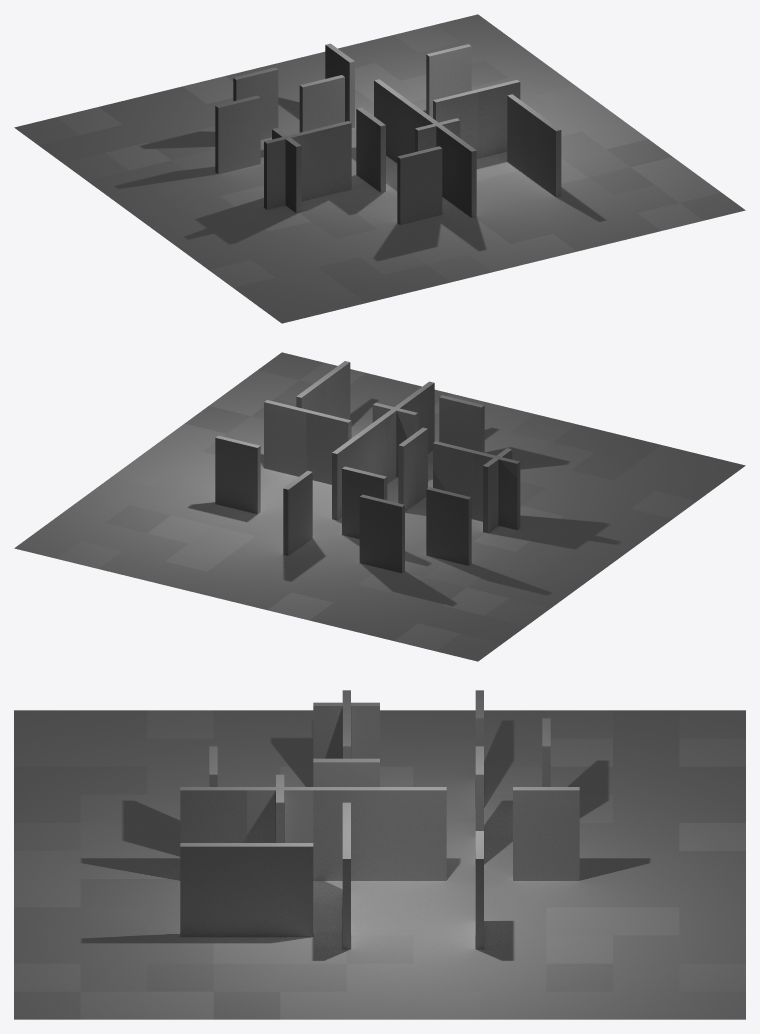
The model's file is 2020-05-06-architecture-study-1.glb.
3 views of the same model, one above another, from view 1: azimuth 30°, elevation 25°; view 2: azimuth 150°, elevation 25°; view 3: azimuth 270°, elevation 25° (orthographic). The views are drawn at different scales.
Visible parts, largest first — view 1: Object_1_Mesh_0; view 2: Object_1_Mesh_0; view 3: Object_1_Mesh_0.
Part boxes in pixels (x1,y1,x2,y2): Object_1_Mesh_0: (14,14,745,323); Object_1_Mesh_0: (14,352,745,661); Object_1_Mesh_0: (14,690,745,1019).
Size of the model in its own units: 22 by 3 by 22.
1 material, 1 textured.
